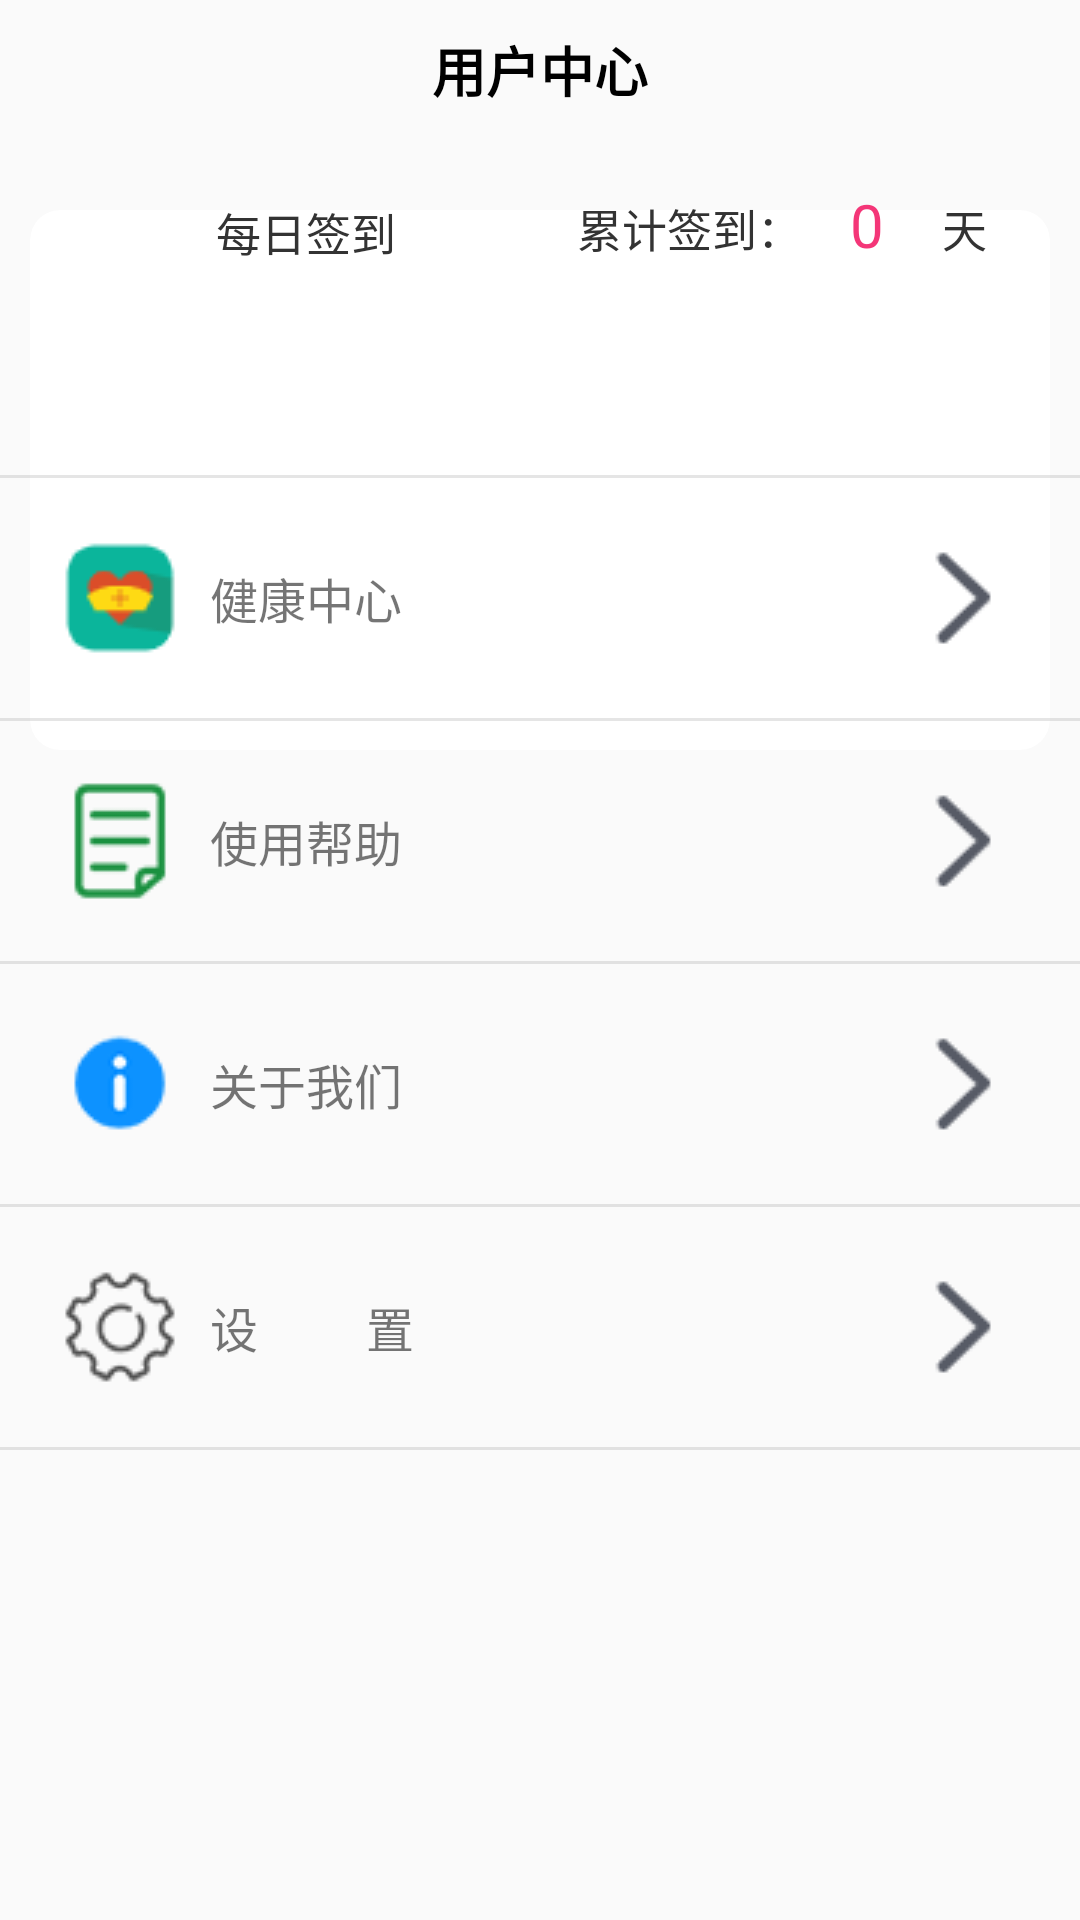

Icons on this 1080 x 1920 Android screen, each with the point to tap as (x,y):
about: (120,1082)
healthy: (120,598)
rightarrow: (963,598), (963,841), (963,1084), (963,1327)
setting: (120,1327)
usinghelp: (120,841)
